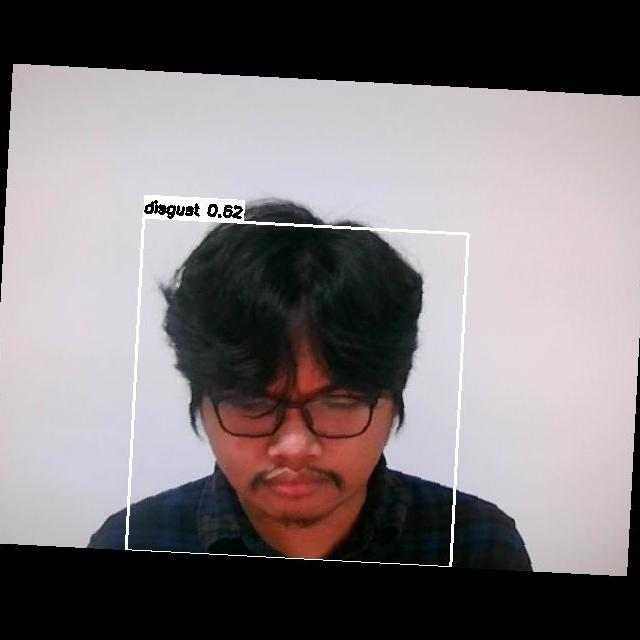Angry: (200, 354, 393, 501)
